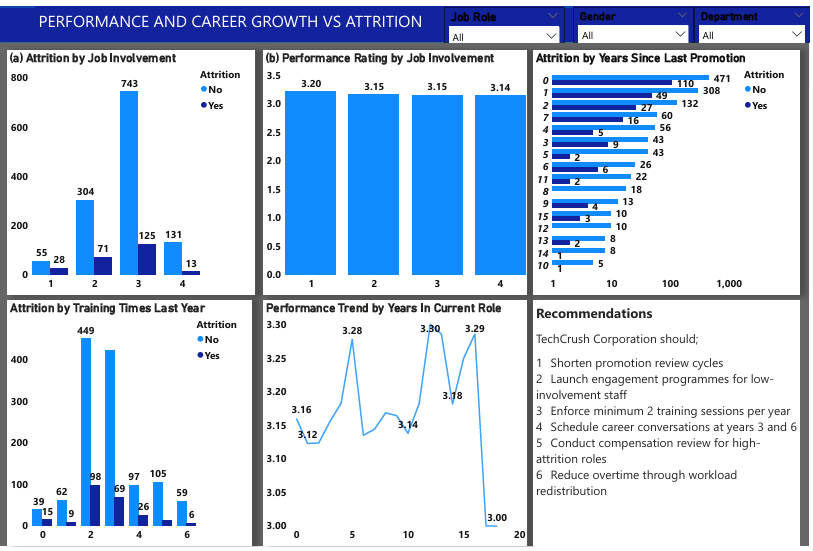

Layout of this report page (visuals, bound fields, positions):
{"tool":"powerbi","page":{"name":"Performance and Career Growth","canvas":[1620,1080],"ordinal":2},"visuals":[{"type":"shape","box":[-12,0,1632,72],"z":0},{"type":"textbox","box":[72,0,1032,72],"z":1000},{"type":"clusteredColumnChart","title":"(a) Attrition by Job Involvement ","fields":{"Category":["WA_Fn-UseC_-HR-Employee-Attriti.Job Involvement"],"Series":["WA_Fn-UseC_-HR-Employee-Attriti.Attrition"],"Y":["CountNonNull(WA_Fn-UseC_-HR-Employee-Attriti.Employee Number)"]},"box":[16.3,88.4,495.3,488.4],"z":2000},{"type":"columnChart","title":"(b) Performance Rating by Job Involvement","fields":{"Category":["WA_Fn-UseC_-HR-Employee-Attriti.Job Involvement"],"Y":["Avg(WA_Fn-UseC_-HR-Employee-Attriti.Performance Rating)"]},"box":[527.9,88.4,527.9,488.4],"z":3000},{"type":"clusteredBarChart","title":"Attrition by Years Since Last Promotion ","fields":{"Category":["WA_Fn-UseC_-HR-Employee-Attriti.Years Since Last Promotion"],"Series":["WA_Fn-UseC_-HR-Employee-Attriti.Attrition"],"Y":["CountNonNull(WA_Fn-UseC_-HR-Employee-Attriti.Employee Number)"]},"box":[1067.4,88.4,532.6,488.4],"z":4000},{"type":"clusteredColumnChart","title":"Attrition by Training Times Last Year","fields":{"Category":["WA_Fn-UseC_-HR-Employee-Attriti.Training Times Last Year"],"Series":["WA_Fn-UseC_-HR-Employee-Attriti.Attrition"],"Y":["CountNonNull(WA_Fn-UseC_-HR-Employee-Attriti.Employee Number)"]},"box":[16.3,588.4,488.4,490.7],"z":5000},{"type":"lineChart","title":"Performance Trend  by Years In Current Role","fields":{"Category":["WA_Fn-UseC_-HR-Employee-Attriti.Years In Current Role"],"Y":["Avg(WA_Fn-UseC_-HR-Employee-Attriti.Performance Rating)"]},"box":[527.9,588.4,527.9,490.7],"z":6000},{"type":"slicer","fields":{"Values":["WA_Fn-UseC_-HR-Employee-Attriti.Department"]},"box":[1388.4,0,232.6,72.1],"z":7000},{"type":"slicer","fields":{"Values":["WA_Fn-UseC_-HR-Employee-Attriti.Gender"]},"box":[1146.5,0,241.9,72.1],"z":8000},{"type":"slicer","fields":{"Values":["WA_Fn-UseC_-HR-Employee-Attriti.Job Role"]},"box":[888.4,0,241.9,72.1],"z":9000},{"type":"textbox","box":[1067,588,533,491],"z":10000}]}

Visuals, with their boxes in screenshot pixels (x1, y1, x2, y2), scaled from the page's 1620x1080 canvas onto the 813x551 screenshot:
shape: detection(0, 0, 812, 37)
textbox: detection(36, 0, 554, 37)
"(a) Attrition by Job Involvement " clusteredColumnChart: detection(8, 45, 257, 294)
"(b) Performance Rating by Job Involvement" columnChart: detection(265, 45, 530, 294)
"Attrition by Years Since Last Promotion " clusteredBarChart: detection(536, 45, 803, 294)
"Attrition by Training Times Last Year" clusteredColumnChart: detection(8, 300, 253, 550)
"Performance Trend  by Years In Current Role" lineChart: detection(265, 300, 530, 550)
slicer - WA_Fn-UseC_-HR-Employee-Attriti.Department: detection(697, 0, 812, 37)
slicer - WA_Fn-UseC_-HR-Employee-Attriti.Gender: detection(575, 0, 697, 37)
slicer - WA_Fn-UseC_-HR-Employee-Attriti.Job Role: detection(446, 0, 567, 37)
textbox: detection(535, 300, 803, 550)
